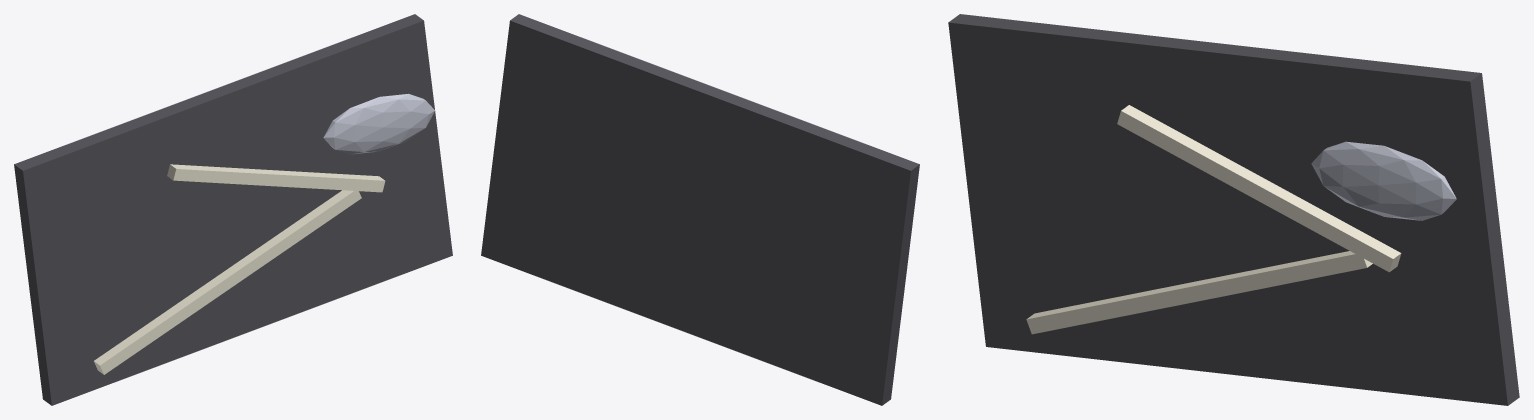
The model's file is 04_weathering_wear_overlay_4.glb.
The picture shows the model from 3 angles, left to right: view 1: azimuth 30°, elevation 25°; view 2: azimuth 150°, elevation 25°; view 3: azimuth 330°, elevation 25°; orthographic projection. The views are drawn at different scales.
Visible parts, largest first — view 1: wear_plate, scratch_a, rust_or_moss_spot, scratch_b; view 2: wear_plate; view 3: wear_plate, rust_or_moss_spot, scratch_b, scratch_a.
Boxes of the visible parts, x1,y1,x2,y2 form: wear_plate: (14, 14, 452, 405); scratch_a: (94, 190, 361, 374); rust_or_moss_spot: (323, 93, 435, 154); scratch_b: (167, 164, 385, 192); wear_plate: (481, 14, 919, 405); wear_plate: (948, 14, 1519, 405); rust_or_moss_spot: (1311, 141, 1456, 220); scratch_b: (1117, 105, 1401, 272); scratch_a: (1026, 251, 1372, 334).
Size of the model in its own units: 1.38 by 0.9055 by 0.134.
